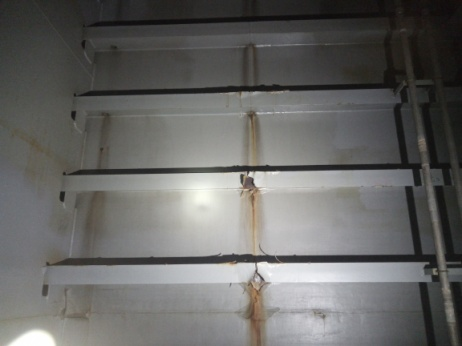corrosion: (243, 280, 277, 346), (87, 115, 115, 168), (245, 193, 268, 253), (76, 200, 104, 248), (242, 113, 262, 166), (241, 44, 260, 84), (102, 53, 123, 84), (239, 168, 260, 195)
